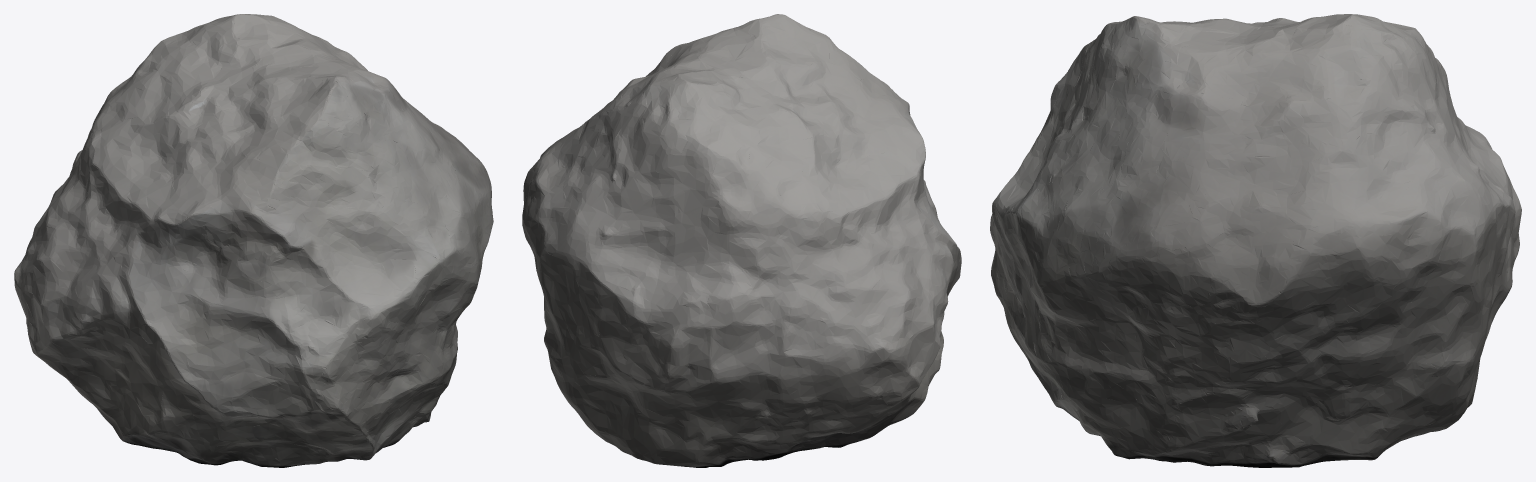
The model's file is stone2.glb.
The picture shows the model from 3 angles, left to right: view 1: azimuth 30°, elevation 25°; view 2: azimuth 150°, elevation 25°; view 3: azimuth 270°, elevation 25°; orthographic projection. The views are drawn at different scales.
Visible parts, largest first — view 1: world; view 2: world; view 3: world.
Part boxes in pixels (box(x1,y1,x2,y2)): world: box(14, 14, 493, 467); world: box(522, 14, 961, 467); world: box(990, 14, 1521, 467).
Size of the model in its own units: 1.97 by 1.68 by 1.98.
1 material, 1 textured.
